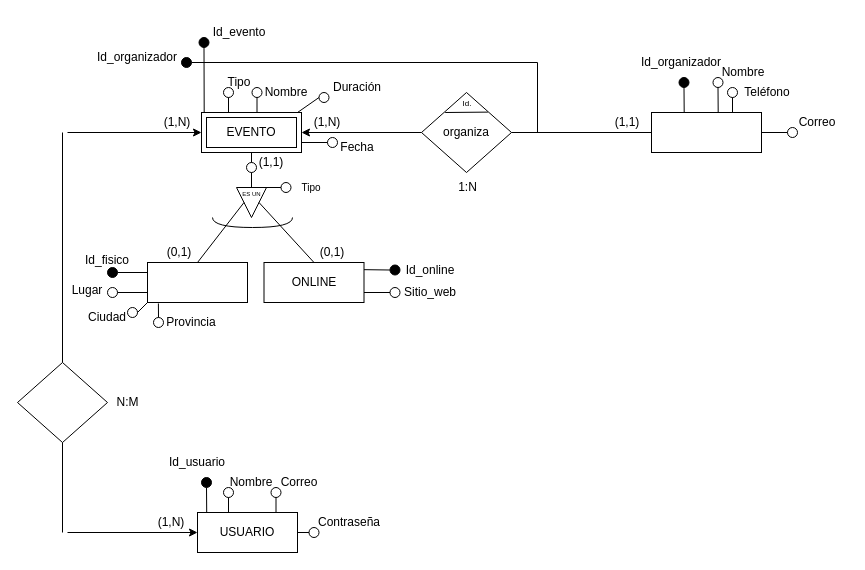
Image size: 865x570. Some labels were removed from this diagram. Each missing label, with the centre of its shape:
FÍSICO: point (197, 282)
ORGANIZADOR: point (706, 132)
registrarse: point (62, 402)
